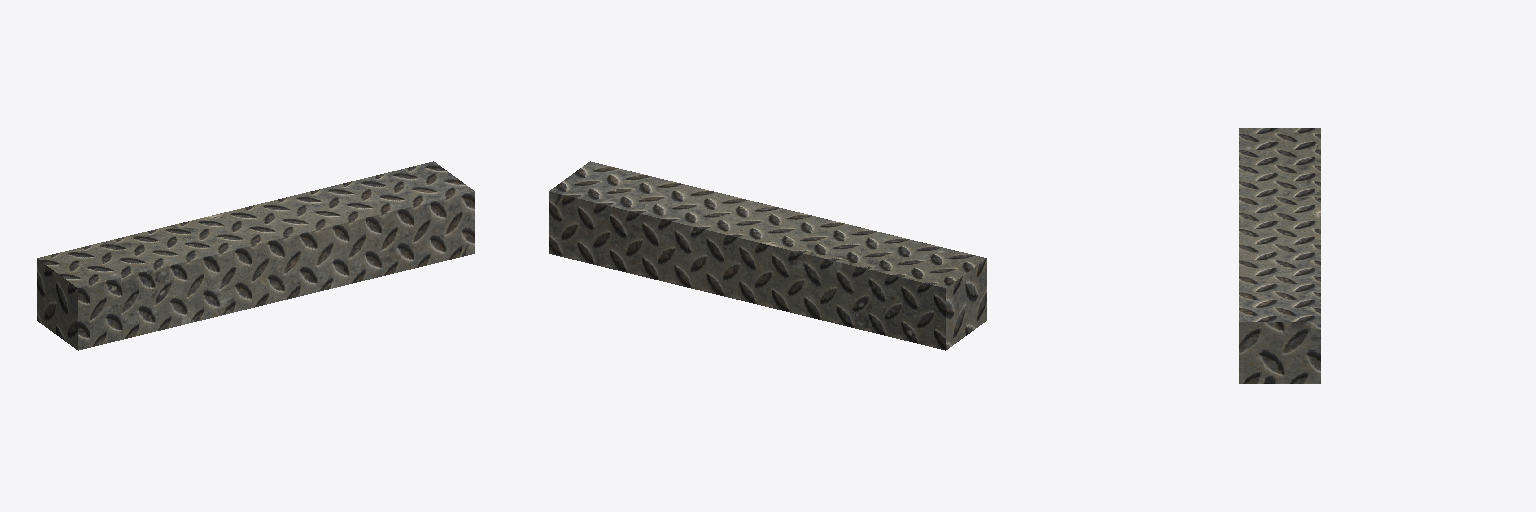
The picture shows the model from 3 angles: view 1: azimuth 30°, elevation 25°; view 2: azimuth 150°, elevation 25°; view 3: azimuth 270°, elevation 25°; orthographic projection.
Visible parts, largest first — view 1: Cube_Cube.001; view 2: Cube_Cube.001; view 3: Cube_Cube.001.
Boxes of the visible parts, x1=… form: Cube_Cube.001: x1=37, y1=161, x2=474, y2=350; Cube_Cube.001: x1=549, y1=161, x2=986, y2=350; Cube_Cube.001: x1=1239, y1=128, x2=1320, y2=383.
Size of the model in its own units: 0.5028 by 0.0754 by 0.0901.
Materials: 1 (1 with a texture image).